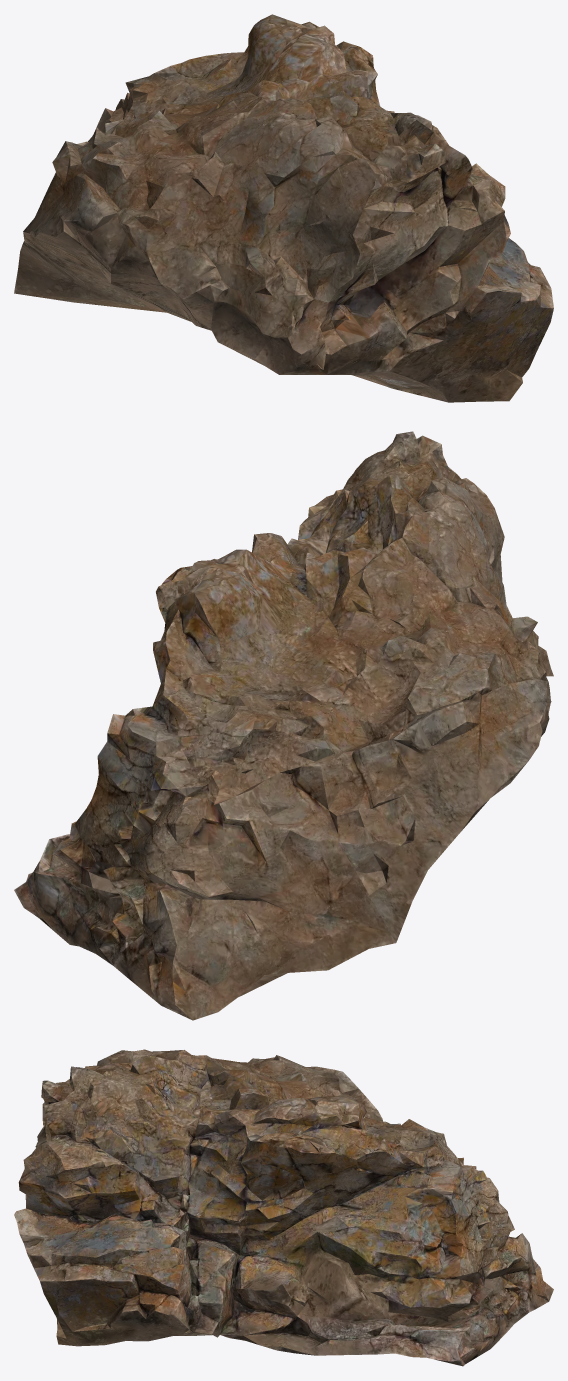
File: boulder-lichen.glb
3 views of the same model, one above another, from view 1: azimuth 30°, elevation 25°; view 2: azimuth 150°, elevation 25°; view 3: azimuth 270°, elevation 25° (orthographic). The views are drawn at different scales.
Parts seen in each view (by area): view 1: boulder-lichen_LOD0; view 2: boulder-lichen_LOD0; view 3: boulder-lichen_LOD0.
Boxes of the visible parts, x1,y1,x2,y2 form: boulder-lichen_LOD0: (14, 14, 553, 402); boulder-lichen_LOD0: (14, 431, 553, 1020); boulder-lichen_LOD0: (14, 1049, 553, 1366).
Size of what is drawn, in the model's own units: 1.28 by 0.9961 by 1.83.
Materials: 1 (1 with a texture image).
